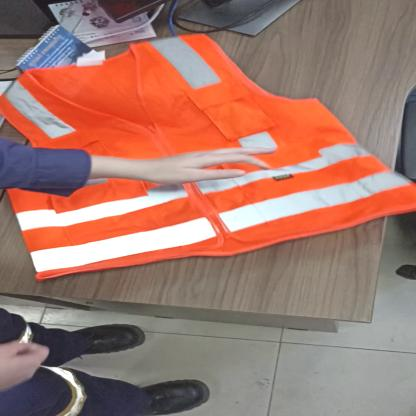colete: (0, 32, 416, 283)
